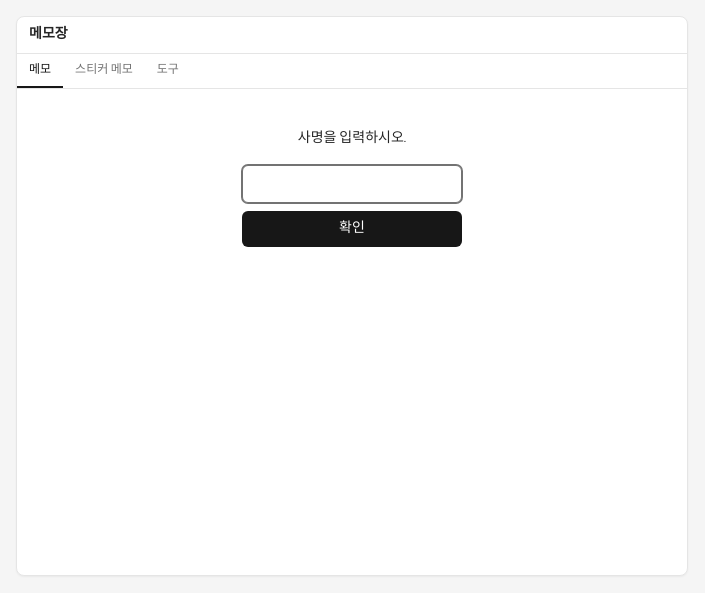
App navigation › navigates to 스티커 메모 and prompts for a nickname when no player exists yet
Click the button "스티커 메모".
click(104, 71)  # box top-left (63, 54), bottom-right (145, 88)
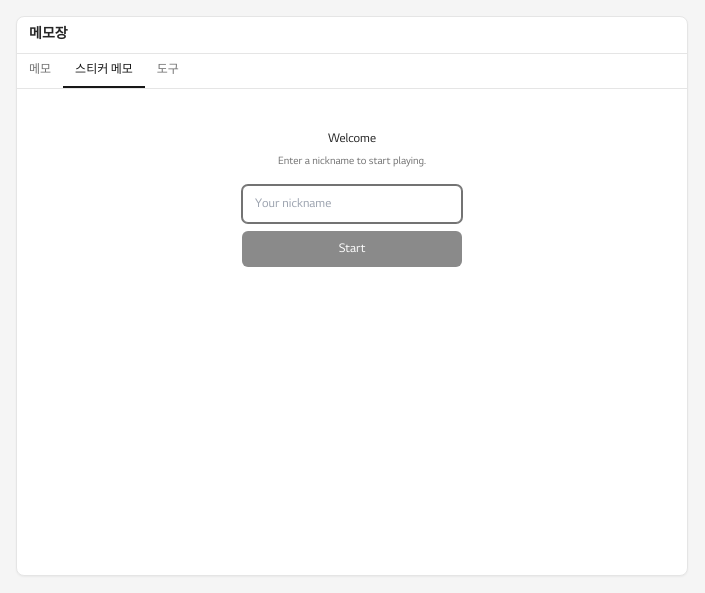
expect the field with placeholder "Your nickname" is shown: met, box top-left (242, 185), bottom-right (462, 223)
